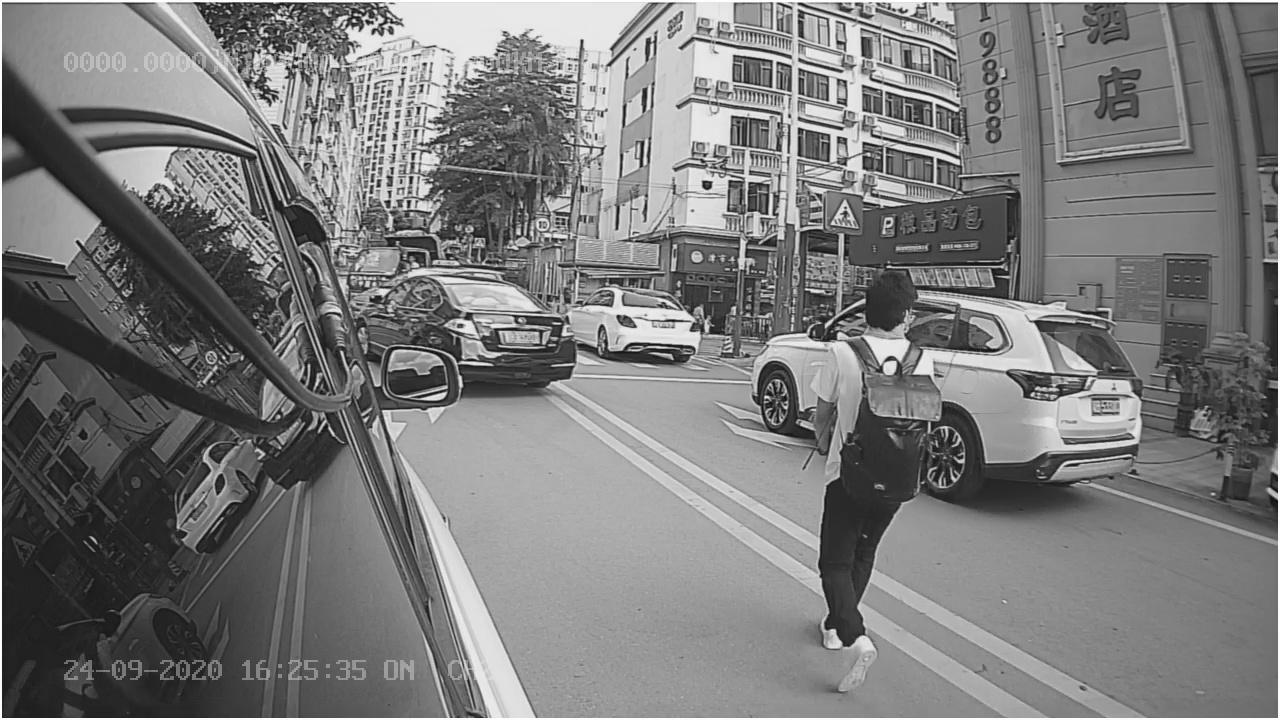person: (768, 266, 965, 698)
